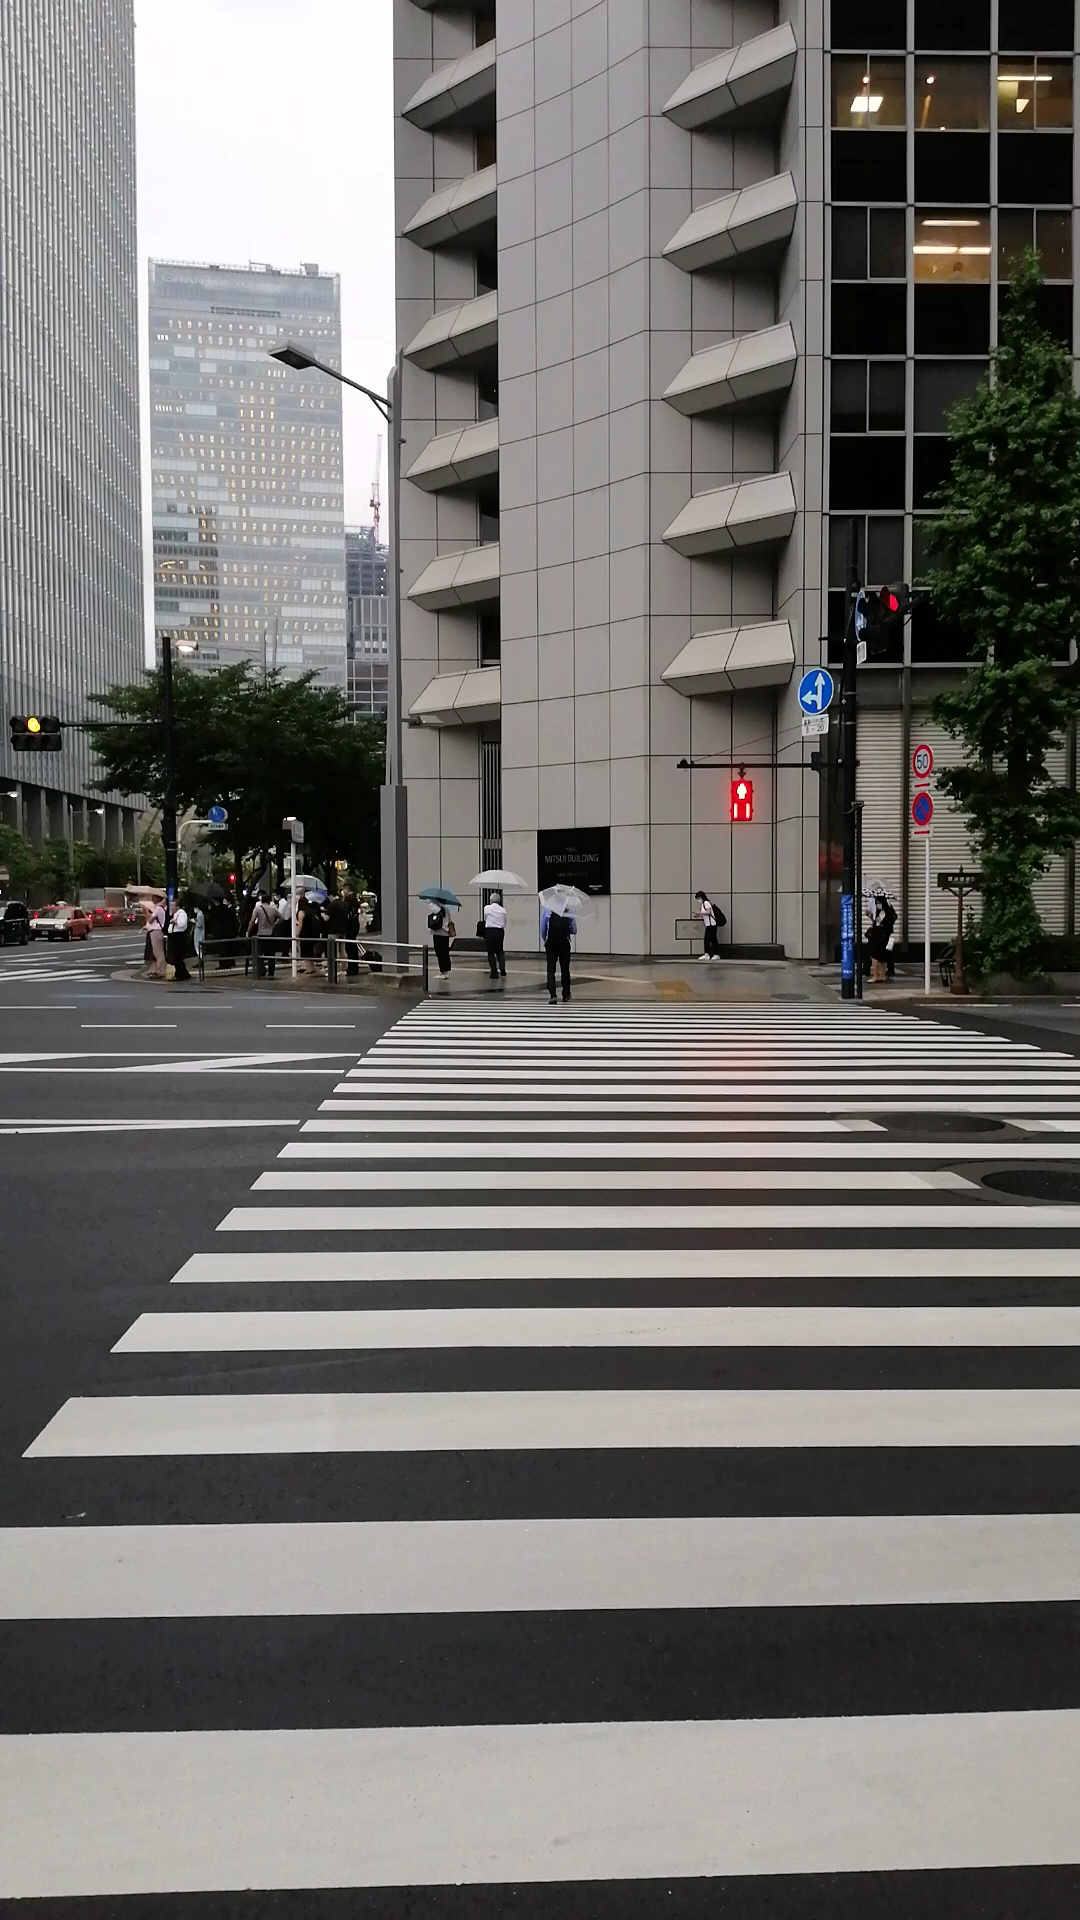red: (731, 778, 752, 822)
